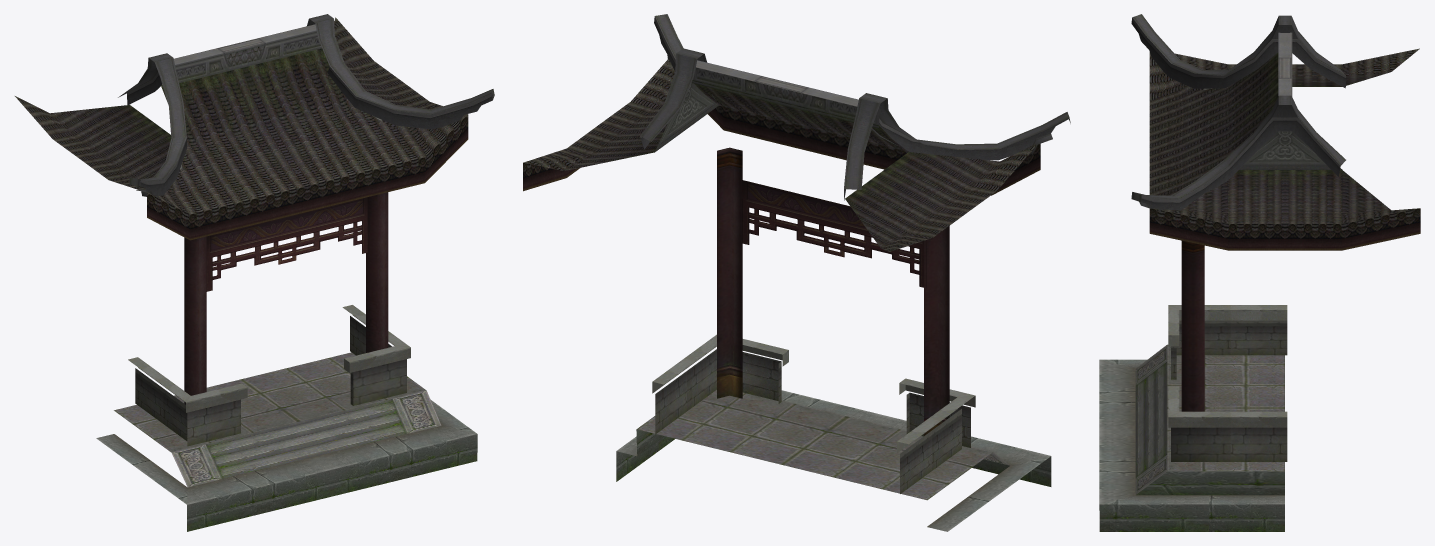
Rendered from zc_suzhou_zhujian05.FBX.
The picture shows the model from 3 angles, left to right: view 1: azimuth 30°, elevation 25°; view 2: azimuth 150°, elevation 25°; view 3: azimuth 270°, elevation 25°; orthographic projection. The views are drawn at different scales.
Parts seen in each view (by area): view 1: zc_suzhou_zhujian05; view 2: zc_suzhou_zhujian05; view 3: zc_suzhou_zhujian05.
Boxes of the visible parts, box(x1,y1,x2,y2) form: zc_suzhou_zhujian05: box(15, 14, 494, 531); zc_suzhou_zhujian05: box(523, 14, 1070, 531); zc_suzhou_zhujian05: box(1099, 14, 1420, 531).
Bounding box in the file's own units: 688 × 704 × 513.
Materials: 2 (2 with a texture image).
